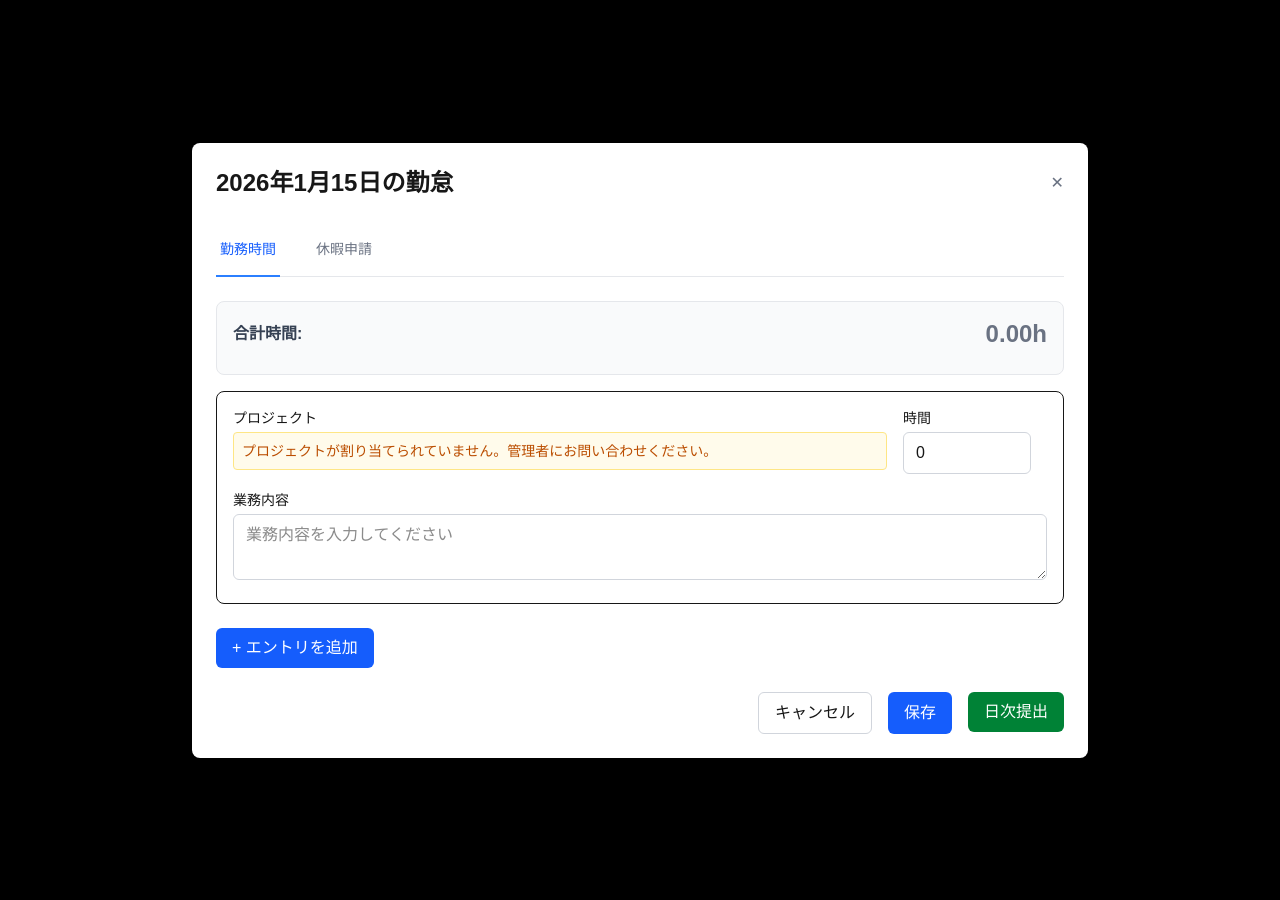
DailyEntryForm › Input Validation › should reject negative hours
The image size is (1280, 900).
Replace the text in the number field labelled "時間" with "-2" at x=967, y=452, box [903,432,1031,474]
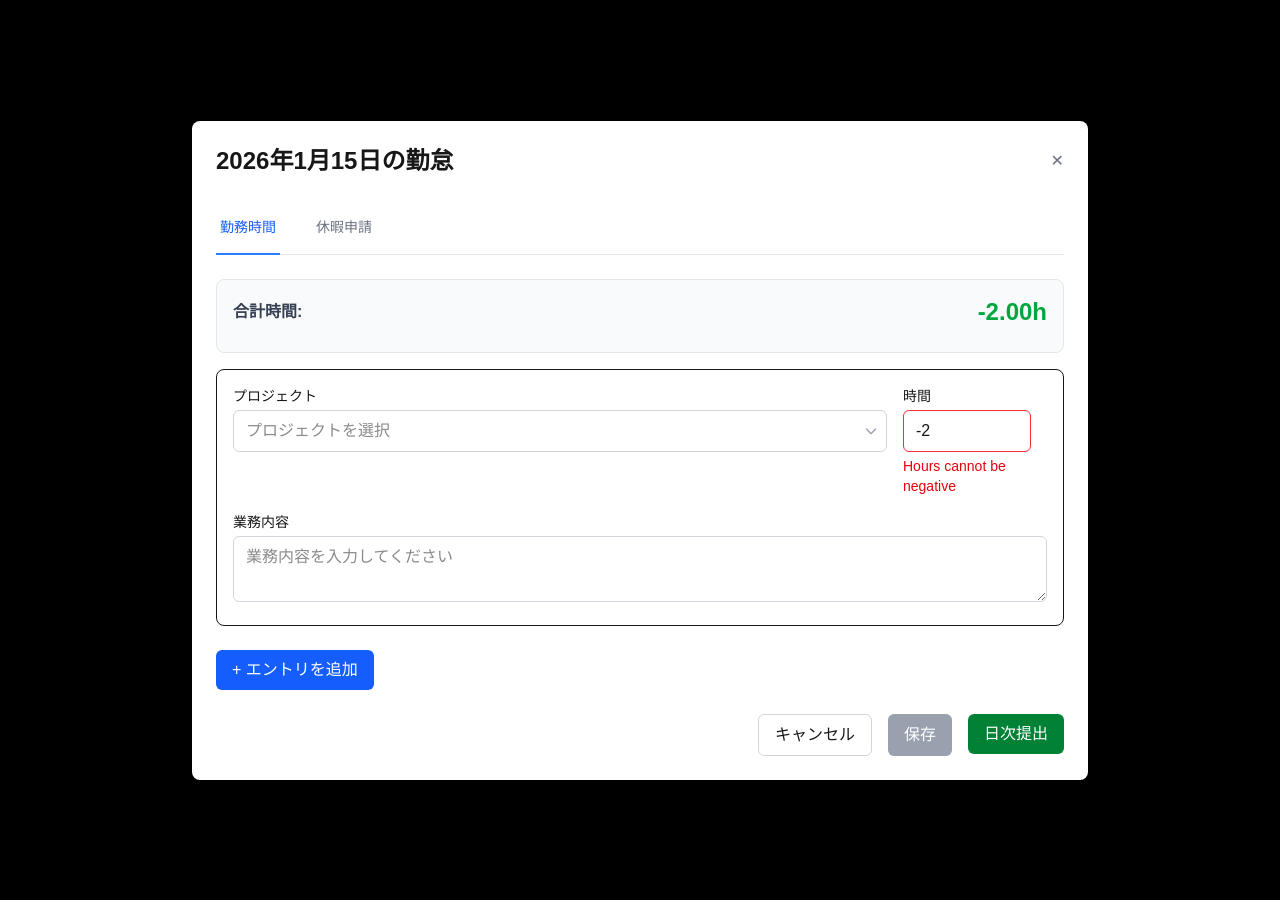
Check: the text "Hours cannot be negative" is shown, box [903,458,1006,494]
